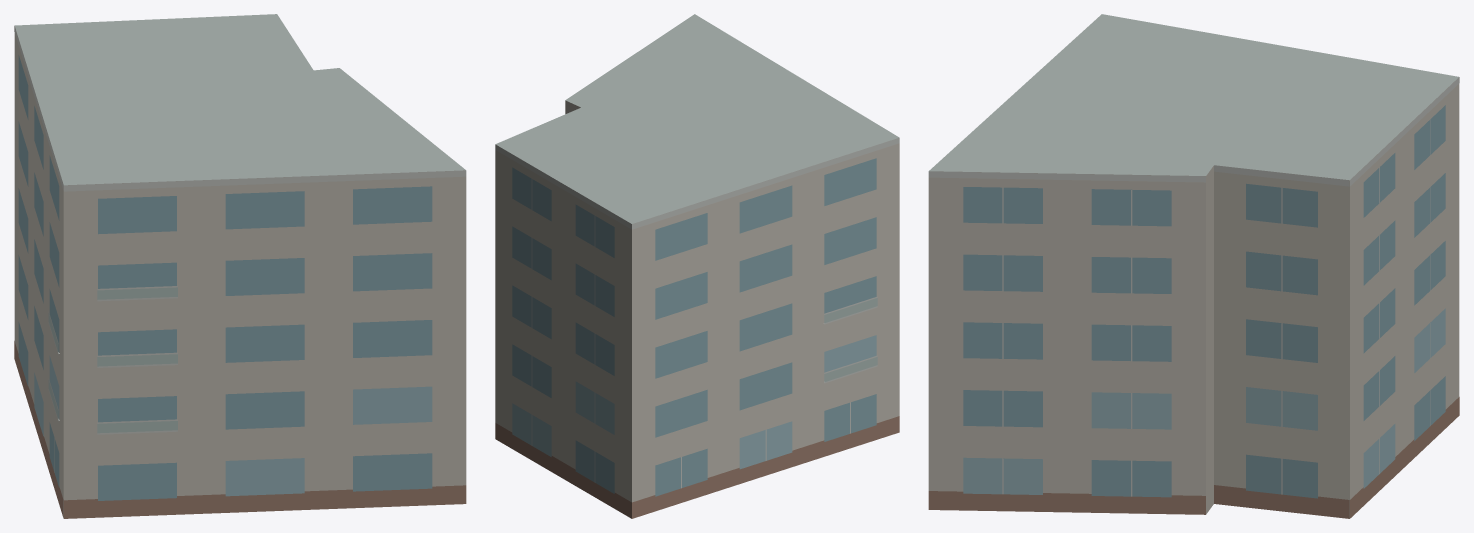
Rendered from survey-upis-32796919.glb.
3 renders of one model, left to right at view 1: azimuth 30°, elevation 25°; view 2: azimuth 150°, elevation 25°; view 3: azimuth 270°, elevation 25°, orthographic. The views are drawn at different scales.
Parts seen in each view (by area): view 1: survey-upis-32796919.tmp; view 2: survey-upis-32796919.tmp; view 3: survey-upis-32796919.tmp.
Part boxes in pixels (left/top/right/bottom): survey-upis-32796919.tmp: left=14, top=14, right=466, bottom=518; survey-upis-32796919.tmp: left=495, top=14, right=899, bottom=518; survey-upis-32796919.tmp: left=928, top=14, right=1459, bottom=518.
Size of the model in its own units: 13.54 by 12.85 by 18.26.
